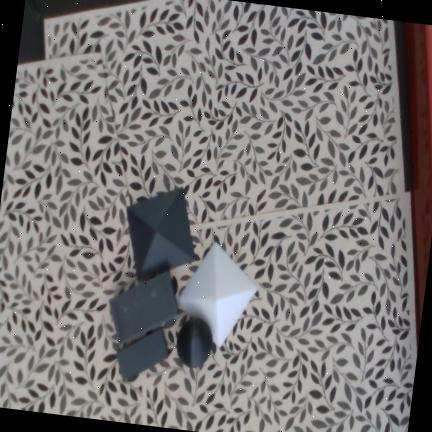Esfera: (176, 318, 212, 368)
Paralelepipedo: (108, 271, 178, 344), (116, 327, 169, 381)
Piramide: (177, 241, 258, 349), (125, 187, 195, 281)
